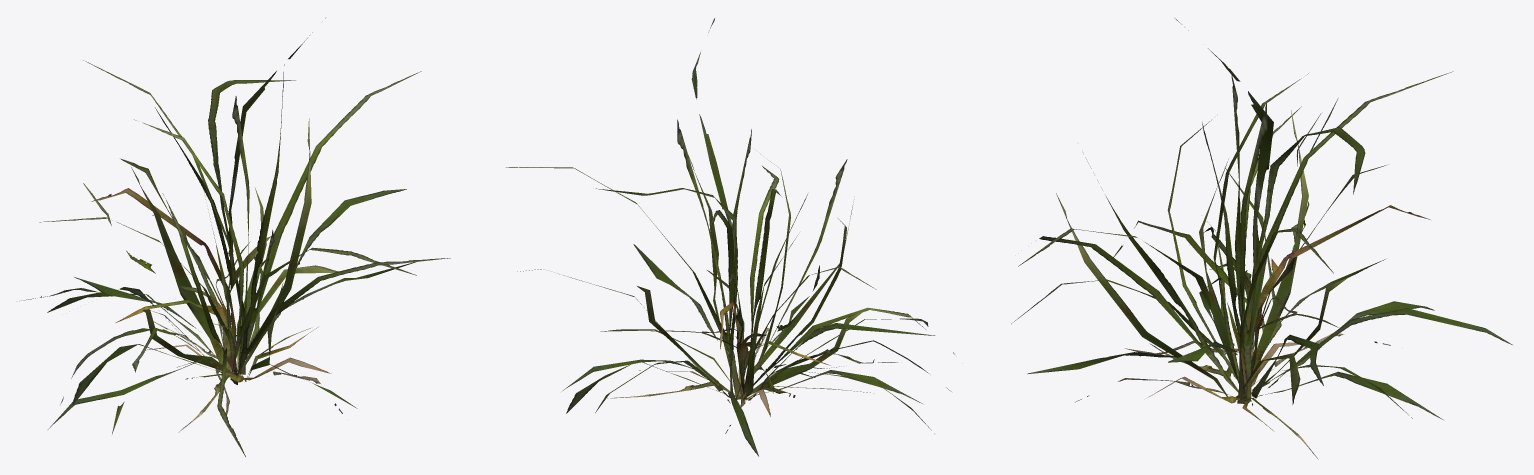
File: grass-0-mid.glb
3 renders of one model, left to right at view 1: azimuth 30°, elevation 25°; view 2: azimuth 150°, elevation 25°; view 3: azimuth 270°, elevation 25°, orthographic. The views are drawn at different scales.
Parts seen in each view (by area): view 1: grass_medium_01_small_a_LOD0; view 2: grass_medium_01_small_a_LOD0; view 3: grass_medium_01_small_a_LOD0.
Part boxes in pixels (x1=…): grass_medium_01_small_a_LOD0: x1=19, y1=18, x2=450, y2=456; grass_medium_01_small_a_LOD0: x1=506, y1=18, x2=954, y2=456; grass_medium_01_small_a_LOD0: x1=1011, y1=18, x2=1512, y2=459.
Bounding box in the file's own units: 0.1682 × 0.1396 × 0.1551.
Materials: 1 (1 with a texture image).
